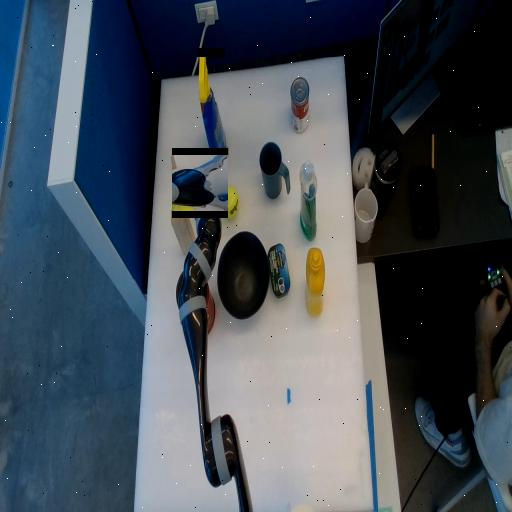bowl: (217, 250, 268, 302)
cleanser: (300, 161, 316, 241)
coffee_can: (176, 267, 214, 338)
jaco: (172, 155, 228, 212)
meat_can: (267, 261, 289, 282)
mug: (258, 156, 289, 186)
mustard_bottle: (305, 249, 324, 317)
rubik: (190, 185, 212, 207)
soup_can: (291, 78, 308, 133)
tennis_ball: (221, 188, 238, 218)
windex: (197, 99, 225, 121)
wooden_block: (171, 208, 195, 254)
workspace: (135, 57, 372, 509)
